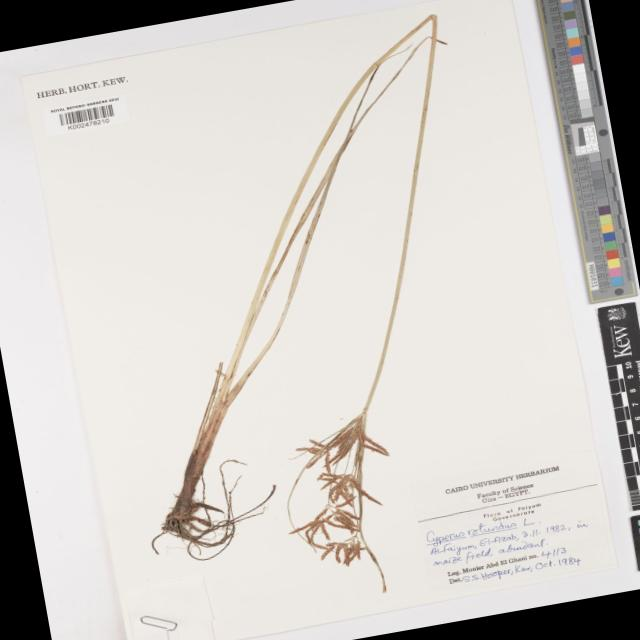cyperus: (274, 407, 413, 576)
